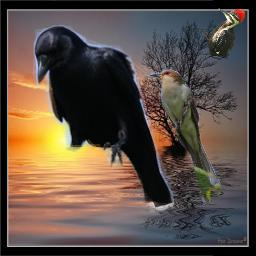Crow: (32, 25, 174, 216)
Cuckoo: (149, 69, 221, 206)
Woodpecker: (201, 8, 245, 56)
